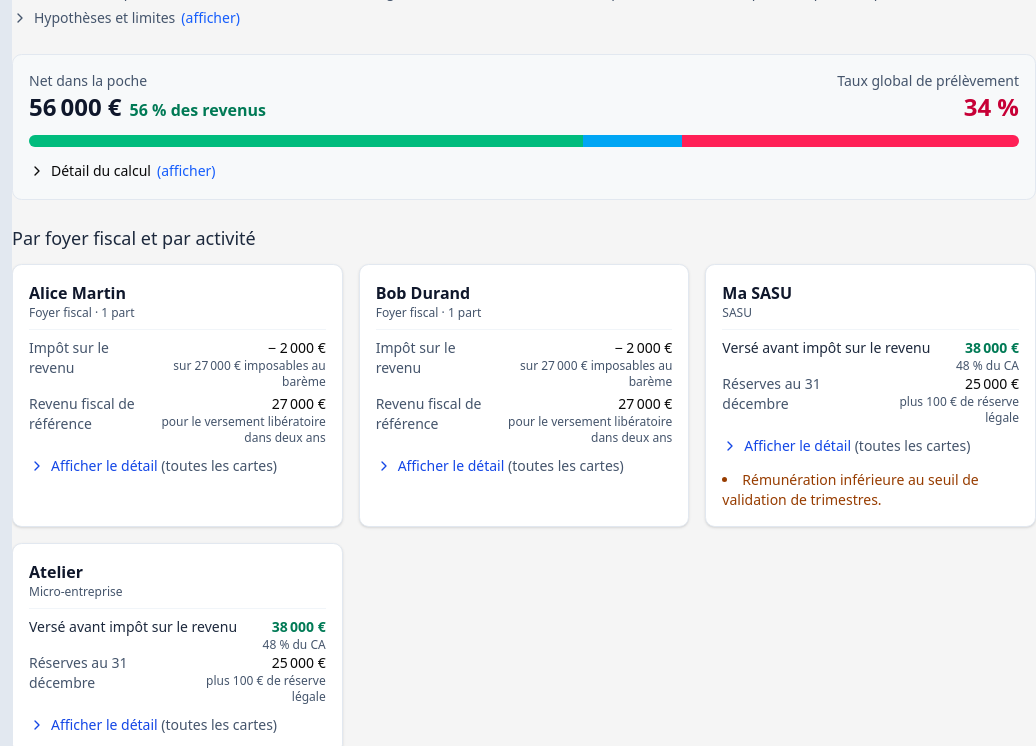
détail des cartes de résultats › affichage « Résumé » : le détail est replié, et un clic sur une activité ouvre celui de toutes les cartes
(page scrolled)
Click the button "Afficher le détail (toutes les cartes)" below "Micro-entreprise": (153,725) [29,713,277,737]
(page scrolled)
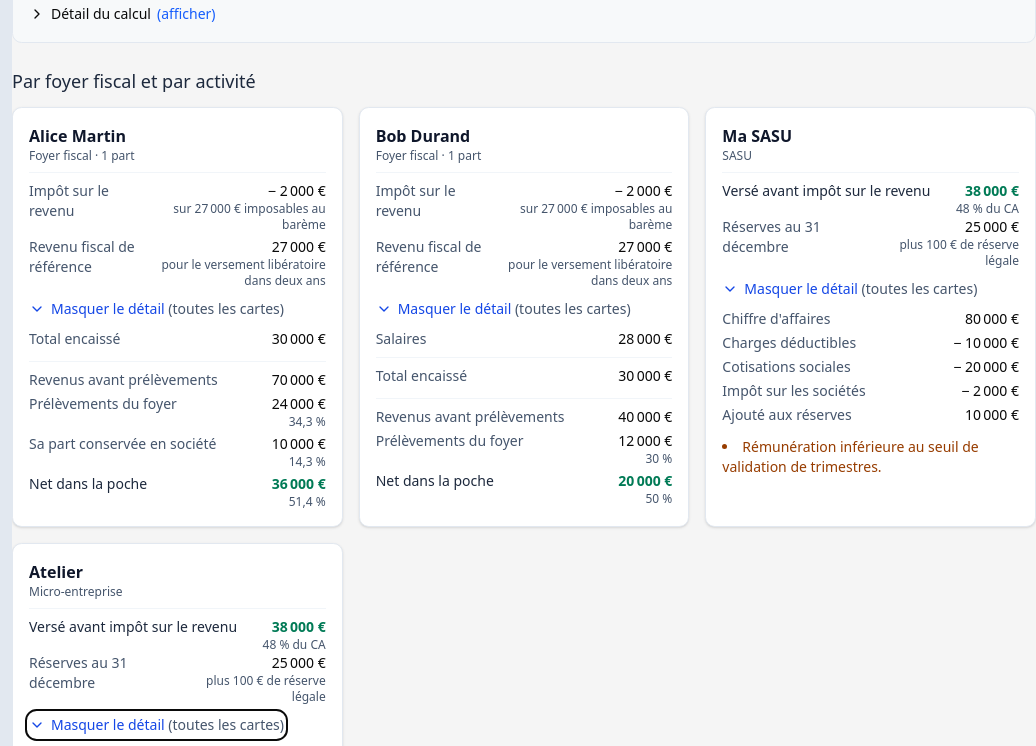
Check: the button "Masquer le détail (toutes les cartes)" below "Alice Martin" is expanded, box [29,297,284,321]
Check: the button "Masquer le détail (toutes les cartes)" below "Bob Durand" is expanded, box [376,297,631,321]
Check: the button "Masquer le détail (toutes les cartes)" below "Ma SASU" is expanded, box [722,277,977,301]
Note: Au clavier aussi : Entrée referme toutes les cartes.
Press Enter
(page scrolled)
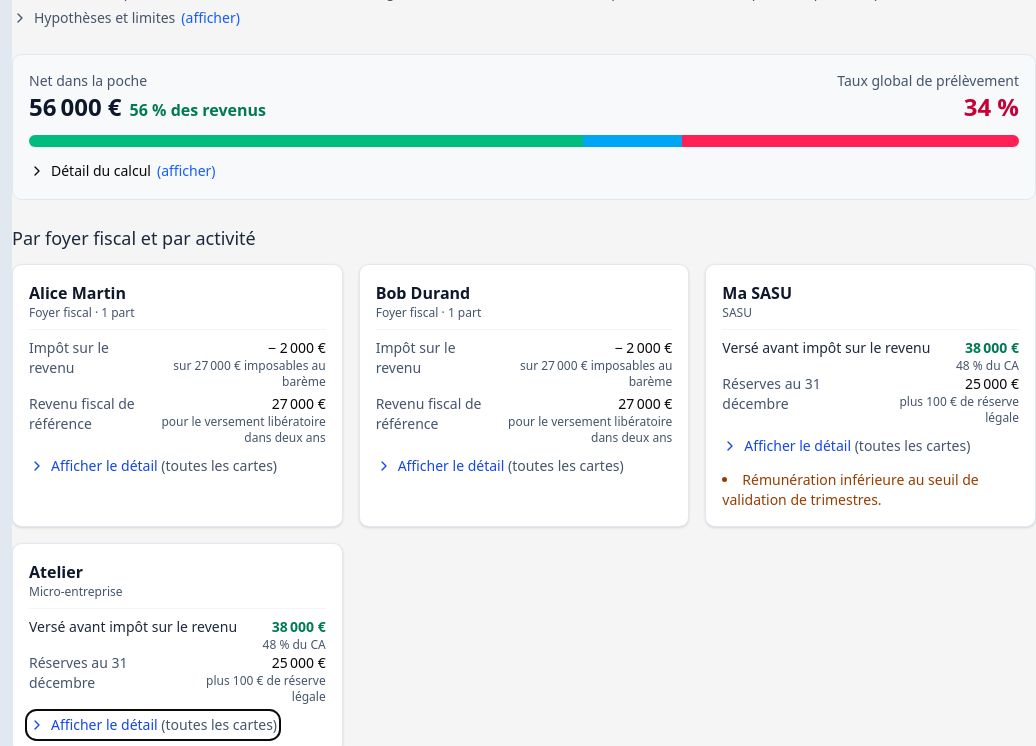
Check: the button "Afficher le détail (toutes les cartes)" below "Alice Martin" is collapsed, box [29,454,277,478]
Check: the button "Afficher le détail (toutes les cartes)" below "Bob Durand" is collapsed, box [376,454,624,478]
Check: the button "Afficher le détail (toutes les cartes)" below "Ma SASU" is collapsed, box [722,434,970,458]
